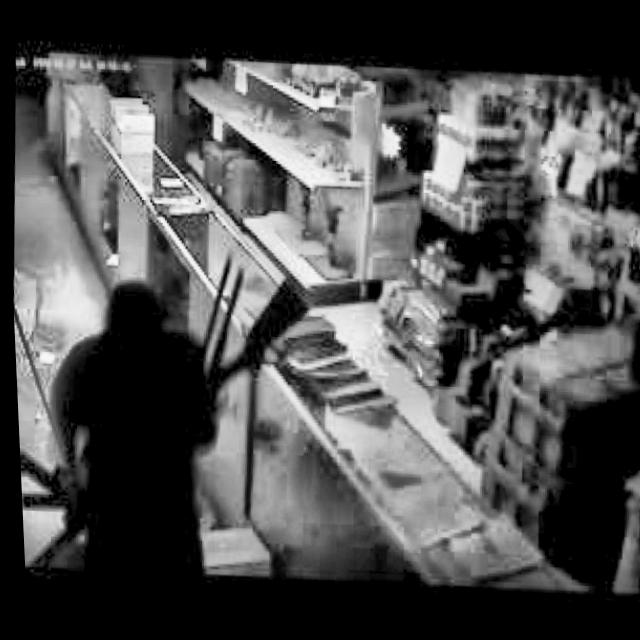burglary: (8, 234, 326, 581)
